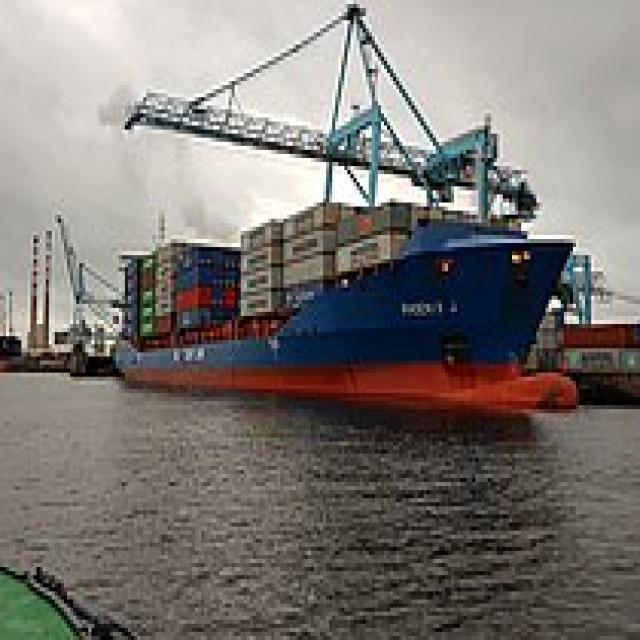Ship: (108, 184, 593, 431)
